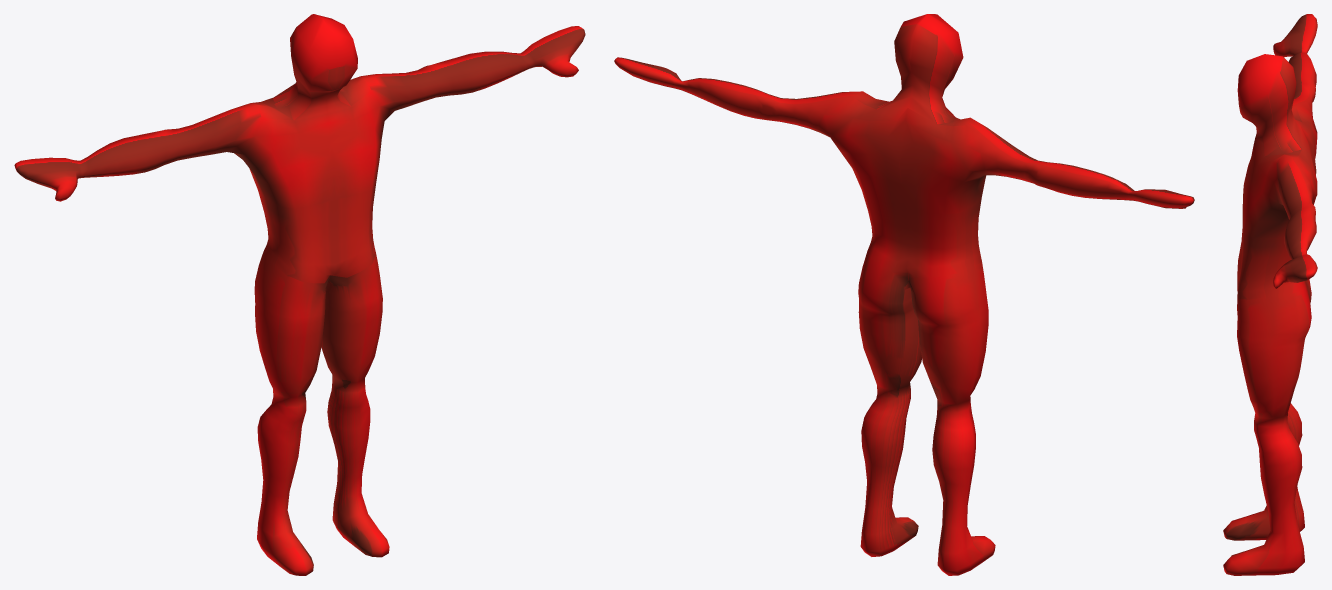
The model's file is Dummy.glb.
3 views of the same model, side by side, from view 1: azimuth 30°, elevation 25°; view 2: azimuth 150°, elevation 25°; view 3: azimuth 270°, elevation 25° (orthographic). The views are drawn at different scales.
Parts seen in each view (by area): view 1: Object; view 2: Object; view 3: Object.
Part boxes in pixels (x1=…): Object: x1=14, y1=14, x2=585, y2=575; Object: x1=614, y1=14, x2=1194, y2=575; Object: x1=1223, y1=14, x2=1317, y2=575.
Size of the model in its own units: 2.07 by 1.86 by 0.3177.
Materials: 1 (1 with a texture image).
